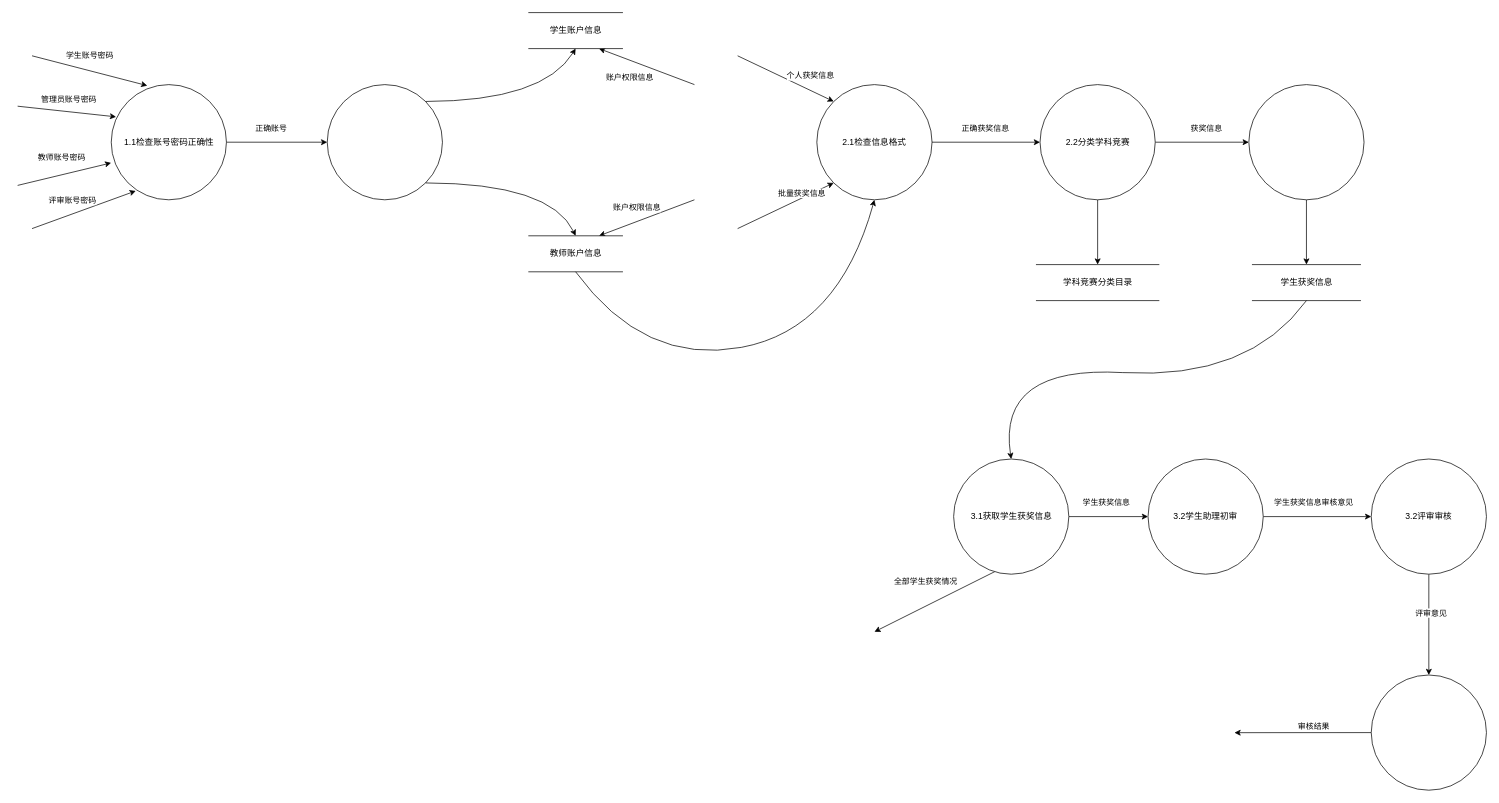
Image size: 1499x803. Some labels were removed from this diagram. Each missing label, with the centre of its shape:
"1.2检查账户类别" goes at (x=384, y=142).
"2.3导入获奖信息" goes at (x=1306, y=142).
"3.3管理员发送审核意见" goes at (x=1428, y=732).
